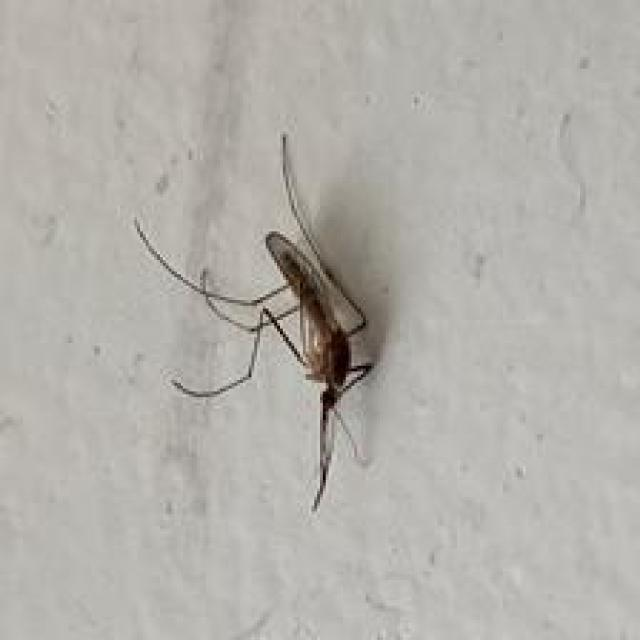Culex: (133, 133, 376, 513)
